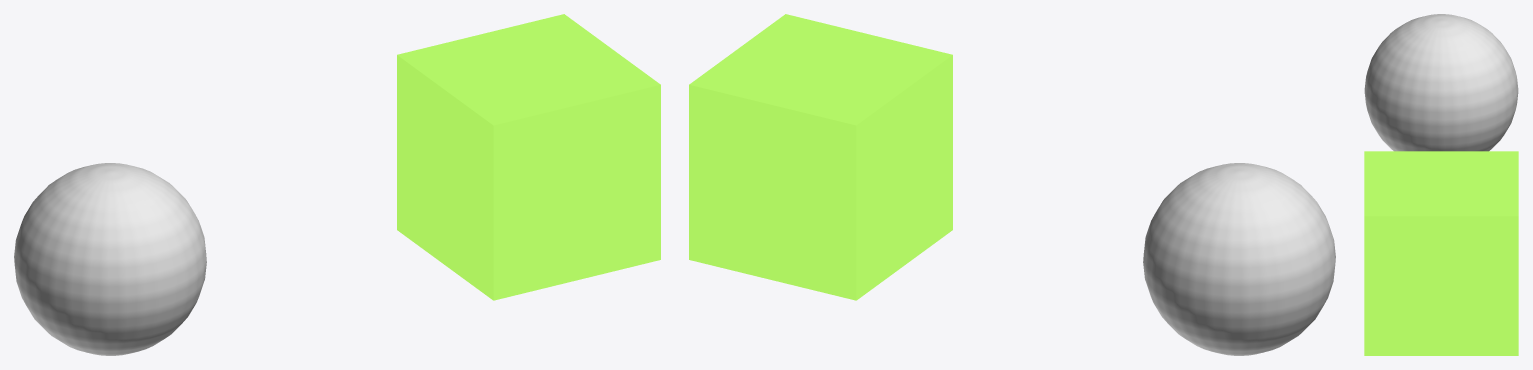
The model's file is GLOBE.glb.
3 views of the same model, side by side, from view 1: azimuth 30°, elevation 25°; view 2: azimuth 150°, elevation 25°; view 3: azimuth 270°, elevation 25° (orthographic). The views are drawn at different scales.
Visible parts, largest first — view 1: Cube, Sphere; view 2: Cube, Sphere; view 3: Cube, Sphere.
Part boxes in pixels (x1,y1,x2,y2): Cube: (397,14,660,300); Sphere: (14,163,206,355); Cube: (689,14,952,300); Sphere: (1143,163,1335,355); Cube: (1364,151,1518,355); Sphere: (1364,14,1518,151).
Bounding box in the file's own units: 7 × 2 × 2.
